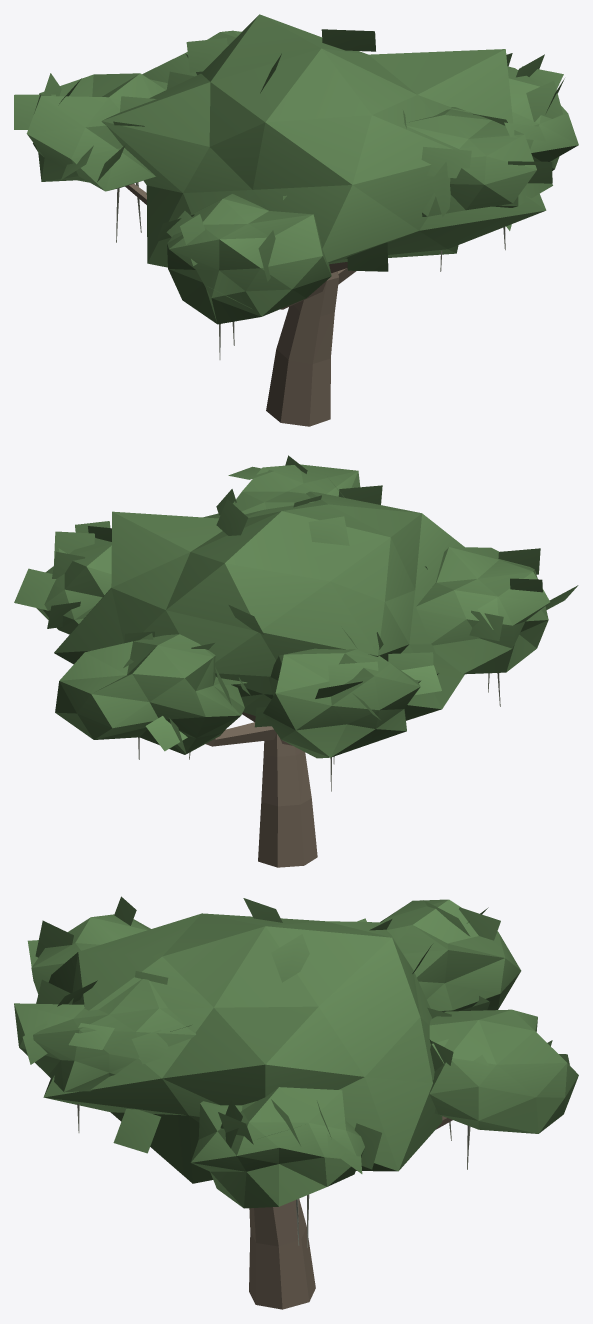
Rendered from veg-live-oak.glb.
3 views of the same model, one above another, from view 1: azimuth 30°, elevation 25°; view 2: azimuth 150°, elevation 25°; view 3: azimuth 270°, elevation 25° (orthographic). The views are drawn at different scales.
Visible parts, largest first — view 1: LOD0; view 2: LOD0; view 3: LOD0.
Part boxes in pixels (left/top/right/bottom): LOD0: left=14, top=14, right=578, bottom=426; LOD0: left=14, top=455, right=578, bottom=867; LOD0: left=14, top=896, right=578, bottom=1309.
Size of what is drawn, in the model's own units: 8.49 by 6.3 by 8.54.
